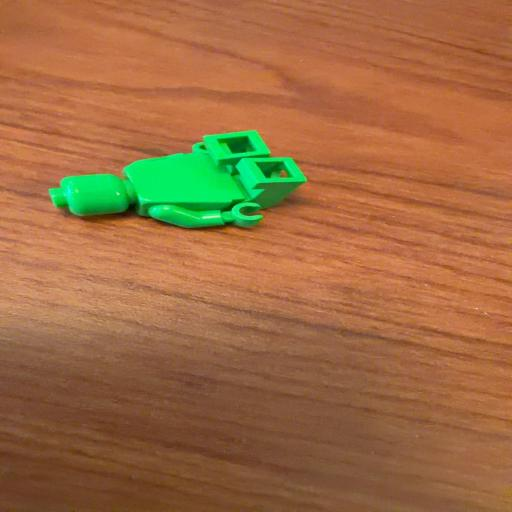UnoQ-minifig-detector: (48, 130, 307, 227)
